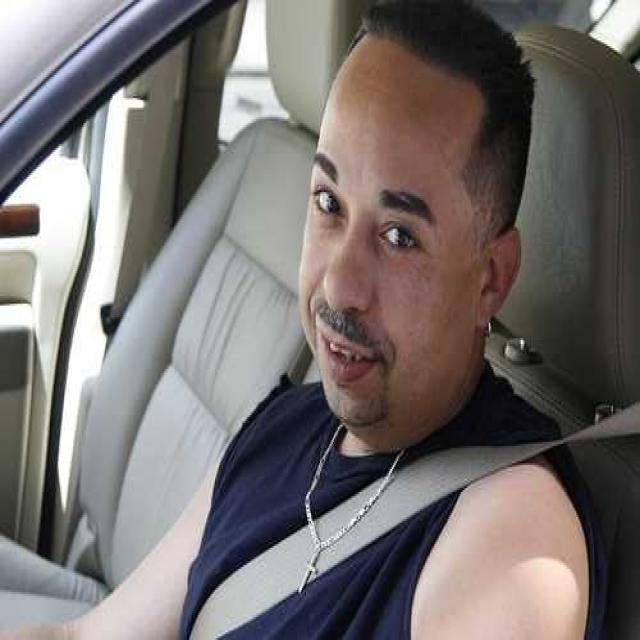seatbelt: (243, 392, 626, 598)
